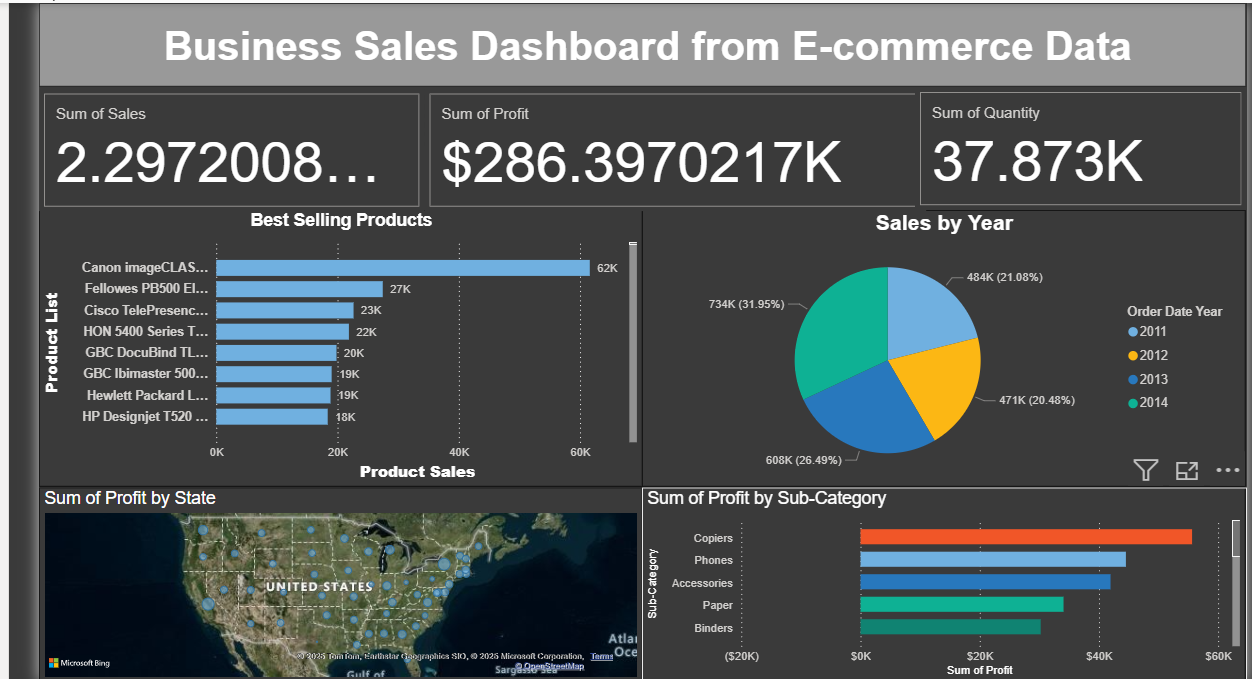

Layout of this report page (visuals, bound fields, positions):
{"tool":"powerbi","page":{"name":"Page 1","canvas":[1280,720],"ordinal":0},"visuals":[{"type":"barChart","title":"Best Selling  Products","fields":{"Category":["Orders.Product Name"],"Y":["Sum(Orders.Sales)"]},"box":[0,220,640,293.3],"z":0},{"type":"textbox","box":[0,0,1280,88.3],"z":1000},{"type":"pieChart","title":"Sales by Year","fields":{"Category":["Orders.Order Date.Variation.Date Hierarchy.Year","Orders.Order Date.Variation.Date Hierarchy.Quarter","Orders.Order Date.Variation.Date Hierarchy.Month","Orders.Order Date.Variation.Date Hierarchy.Day"],"Y":["Sum(Orders.Sales)"]},"box":[640,220,640,293.3],"z":2000},{"type":"textbox","box":[0,548.6,257.1,117.1],"z":3000},{"type":"cardVisual","fields":{"Data":["Sum(Orders.Sales)"]},"box":[0,90,408.3,130],"z":4000},{"type":"cardVisual","fields":{"Data":["Sum(Orders.Profit)"]},"box":[408.3,90,531.7,130],"z":5000},{"type":"cardVisual","fields":{"Data":["Sum(Orders.Quantity)"]},"box":[928.3,88.3,351.7,130],"z":6000},{"type":"map","fields":{"Category":["Orders.State"],"Size":["Sum(Orders.Profit)"]},"box":[0,513.3,640,206.7],"z":7000},{"type":"barChart","fields":{"Category":["Orders.Sub-Category"],"Y":["Sum(Orders.Profit)"]},"box":[640,513.3,640,206.7],"z":8000}]}

Visuals, with their boxes on the page's 1280x720 design canvas (x1, y1, x2, y2). These are canvas units, not pixel positions in the 1252x679 screenshot, which may show the page scaled, cropped or inside an application window:
"Best Selling  Products" barChart: BBox(0, 220, 640, 513)
textbox: BBox(0, 0, 1280, 88)
"Sales by Year" pieChart: BBox(640, 220, 1280, 513)
textbox: BBox(0, 549, 257, 666)
cardVisual - Sum(Orders.Sales): BBox(0, 90, 408, 220)
cardVisual - Sum(Orders.Profit): BBox(408, 90, 940, 220)
cardVisual - Sum(Orders.Quantity): BBox(928, 88, 1280, 218)
map - Orders.State x Sum(Orders.Profit): BBox(0, 513, 640, 720)
barChart - Orders.Sub-Category x Sum(Orders.Profit): BBox(640, 513, 1280, 720)
